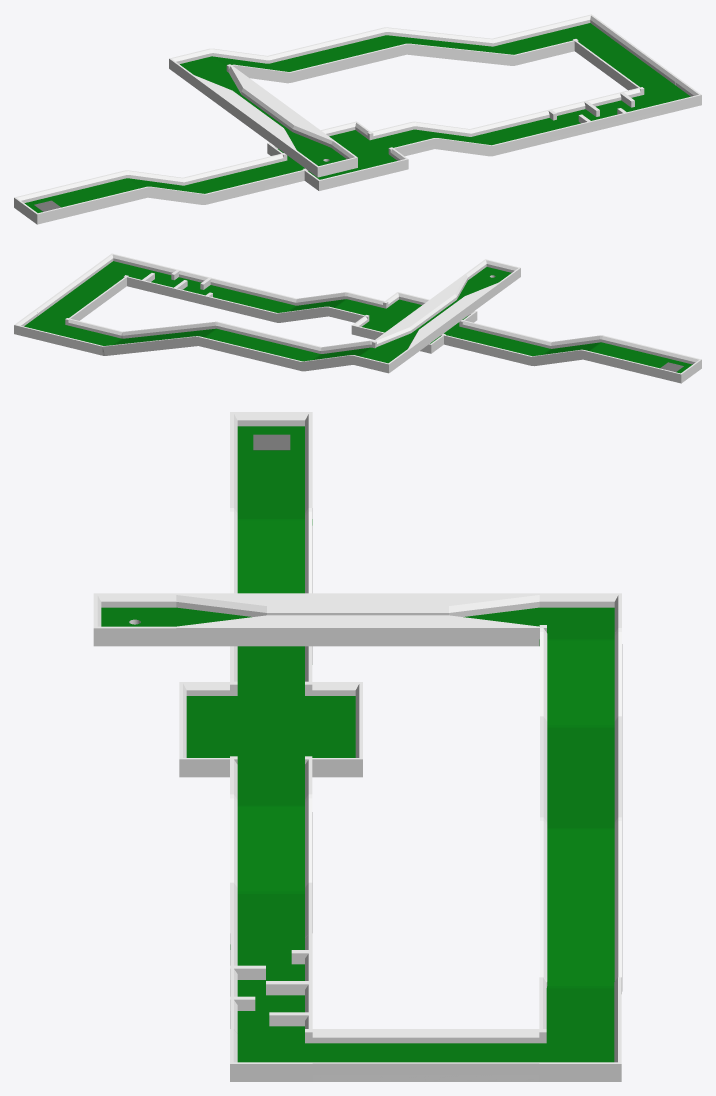
The model's file is Level11Model.obj.
3 views of the same model, one above another, from view 1: azimuth 30°, elevation 25°; view 2: azimuth 150°, elevation 25°; view 3: azimuth 270°, elevation 25° (orthographic). The views are drawn at different scales.
Visible parts, largest first — view 1: polySurface656; view 2: polySurface656; view 3: polySurface656.
Part boxes in pixels (x1,y1,x2,y2): polySurface656: (14, 14, 701, 224); polySurface656: (14, 253, 701, 383); polySurface656: (93, 412, 622, 1081).
Bounding box in the file's own units: 37.09 × 3.68 × 14.38.
Materials: 3 (2 with a texture image).
